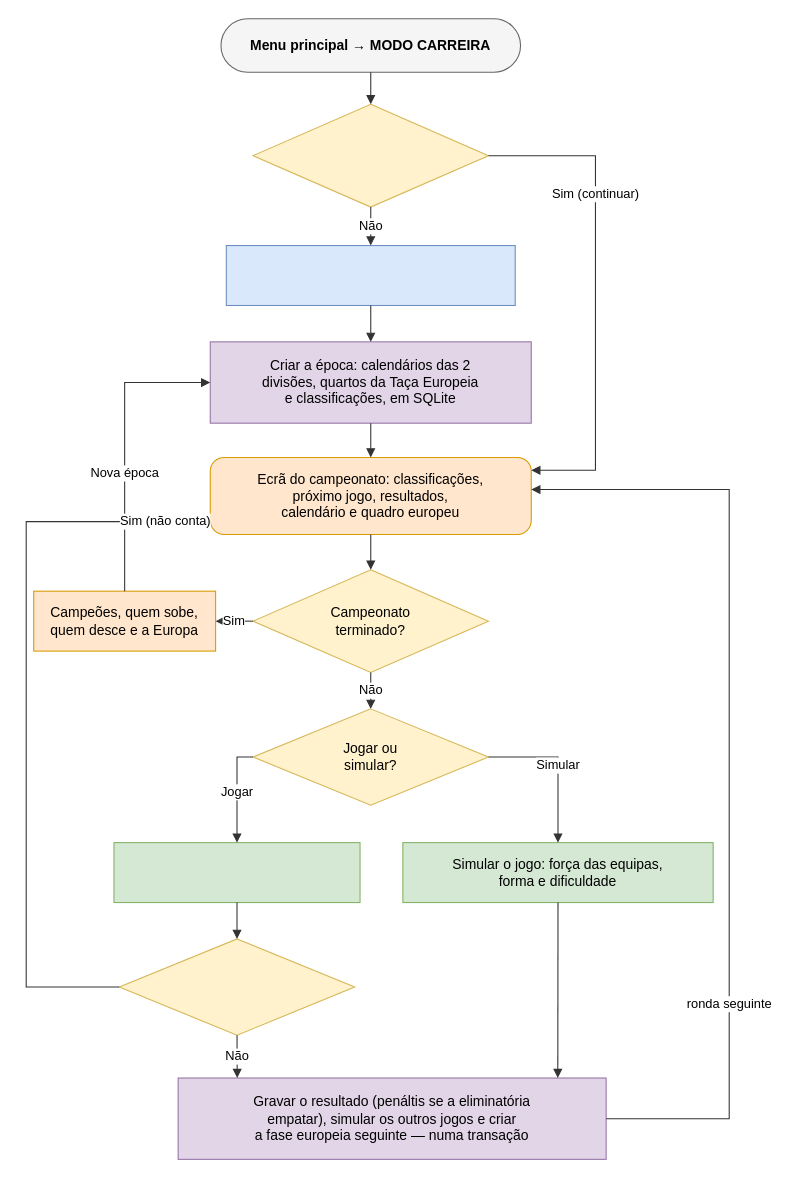
Image size: 790x1178. Some labels were removed from this diagram. Here are the shapes that lost their labels. From the top down, the centre of each, then its label:
At pixel 370 155: "Há um campeonato guardado?".
At pixel 370 274: "Escolher o clube (1.ª ou 2.ª divisão) e a dificuldade".
At pixel 236 872: "Jogar o jogo da ronda (liga ou Taça Europeia)".
At pixel 236 986: "Desistiu na pausa?".
